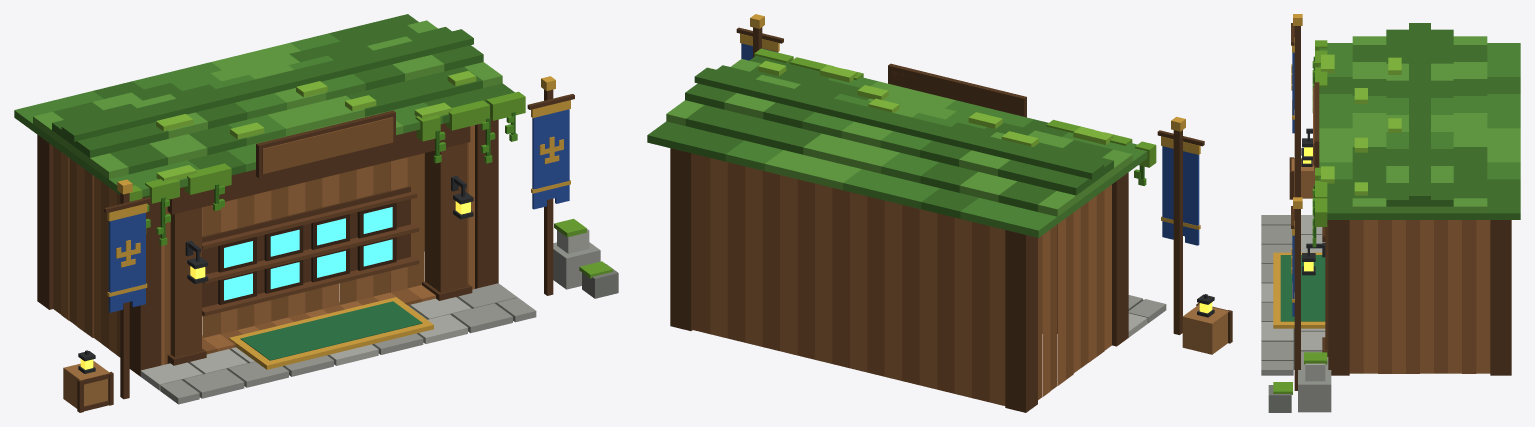
The model's file is Lobby_DexHall.glb.
3 views of the same model, side by side, from view 1: azimuth 30°, elevation 25°; view 2: azimuth 150°, elevation 25°; view 3: azimuth 270°, elevation 25° (orthographic). The views are drawn at different scales.
Parts seen in each view (by area): view 1: roof_shingles_shingle_dark, walls_wood, walls_wood_light, roof_shingles_shingle_light, corner_posts, front_posts_wood_post, roof_shingles_shingle, roof_ridge, porch_step_stone, banners, shelves, lintel (+24 smaller); view 2: walls_wood_light, walls_wood, roof_shingles_shingle_dark, corner_posts, roof_shingles_shingle_light, roof_shingles_shingle, roof_ridge, sign_frame, banners, banner_poles, roof_moss_moss_light, crates (+3 smaller); view 3: roof_shingles_shingle_dark, walls_wood_light, walls_wood, roof_shingles_shingle_light, roof_shingles_shingle, corner_posts, roof_ridge, porch_step_stone, banner_poles, rug, porch_stone_light, roof_moss_moss (+12 smaller).
Part boxes in pixels (x1,y1,x2,y2): roof_shingles_shingle_dark: (52,14,514,175); walls_wood: (53,142,468,364); walls_wood_light: (61,125,474,365); roof_shingles_shingle_light: (33,20,502,179); corner_posts: (37,119,498,376); front_posts_wood_post: (170,143,467,357); roof_shingles_shingle: (14,33,442,196); roof_ridge: (61,29,473,141); porch_step_stone: (160,283,536,404); banners: (108,109,569,312); shelves: (202,191,419,316); lintel: (167,123,470,214); walls_wood_light: (710,158,1111,405); walls_wood: (692,154,1104,402); roof_shingles_shingle_dark: (647,56,1113,218); corner_posts: (670,148,1128,412); roof_shingles_shingle_light: (666,59,1132,216); roof_shingles_shingle: (725,77,1147,237); roof_ridge: (694,67,1104,179); sign_frame: (888,63,1026,117); banners: (741,43,1199,245); banner_poles: (736,27,1204,334); roof_moss_moss_light: (758,61,1113,146); crates: (1182,304,1228,354); roof_shingles_shingle_dark: (1319,29,1520,219); walls_wood_light: (1363,220,1490,373); walls_wood: (1349,220,1476,373); roof_shingles_shingle_light: (1319,36,1520,213); roof_shingles_shingle: (1319,43,1520,179); corner_posts: (1328,220,1511,375); roof_ridge: (1409,23,1430,201); porch_step_stone: (1261,215,1328,375); banner_poles: (1291,23,1300,390); rug: (1280,255,1325,321); porch_stone_light: (1261,215,1325,350); roof_moss_moss: (1273,40,1327,394).
Size of the model in its own units: 8.84 by 3.44 by 4.25.
